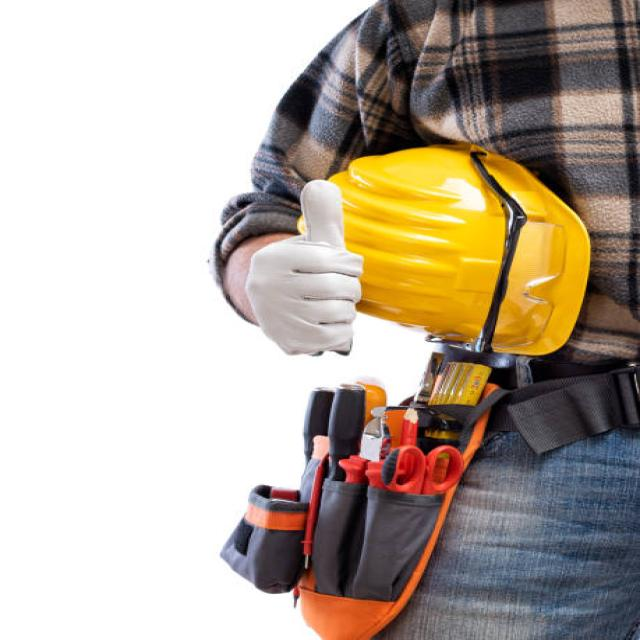gloves: (250, 180, 365, 353)
